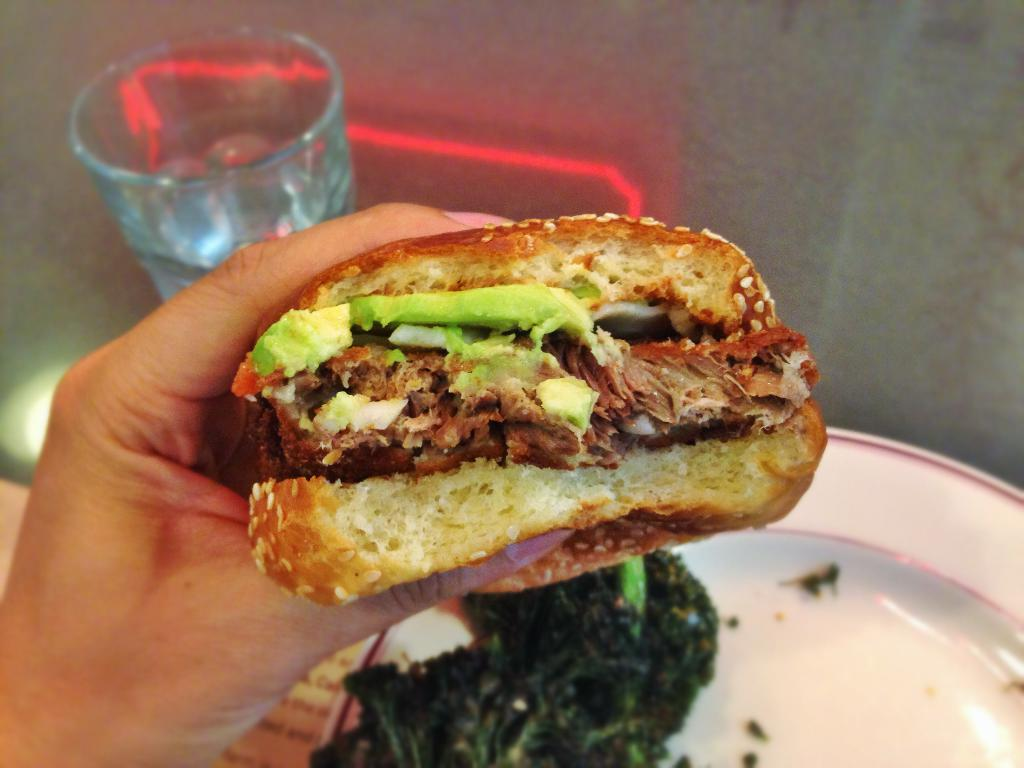Hamburger: (228, 211, 833, 601)
